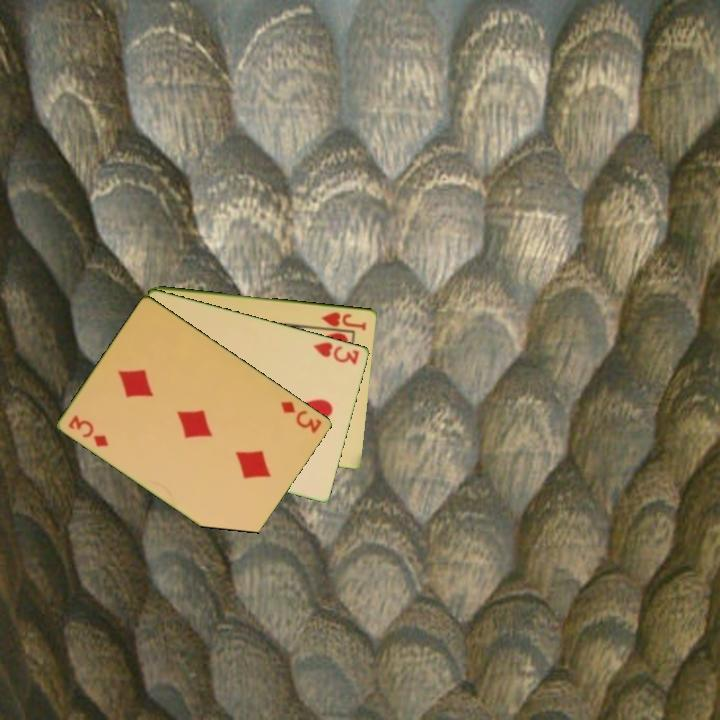3d: (277, 397, 325, 436), (65, 411, 112, 450)
3h: (310, 338, 362, 367)
Jh: (318, 308, 369, 333)
